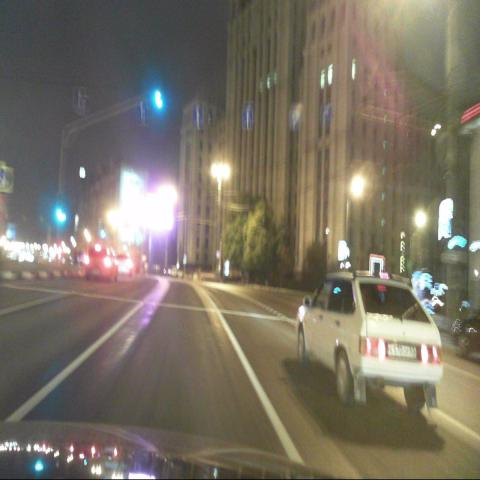5_15_2: (72, 86, 84, 109)
